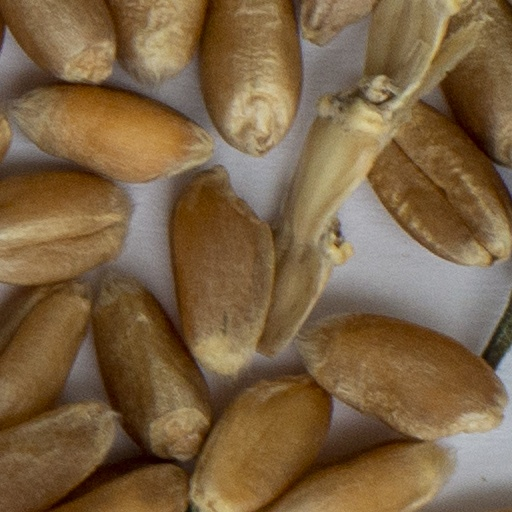Peel-poly: (264, 0, 479, 347)
